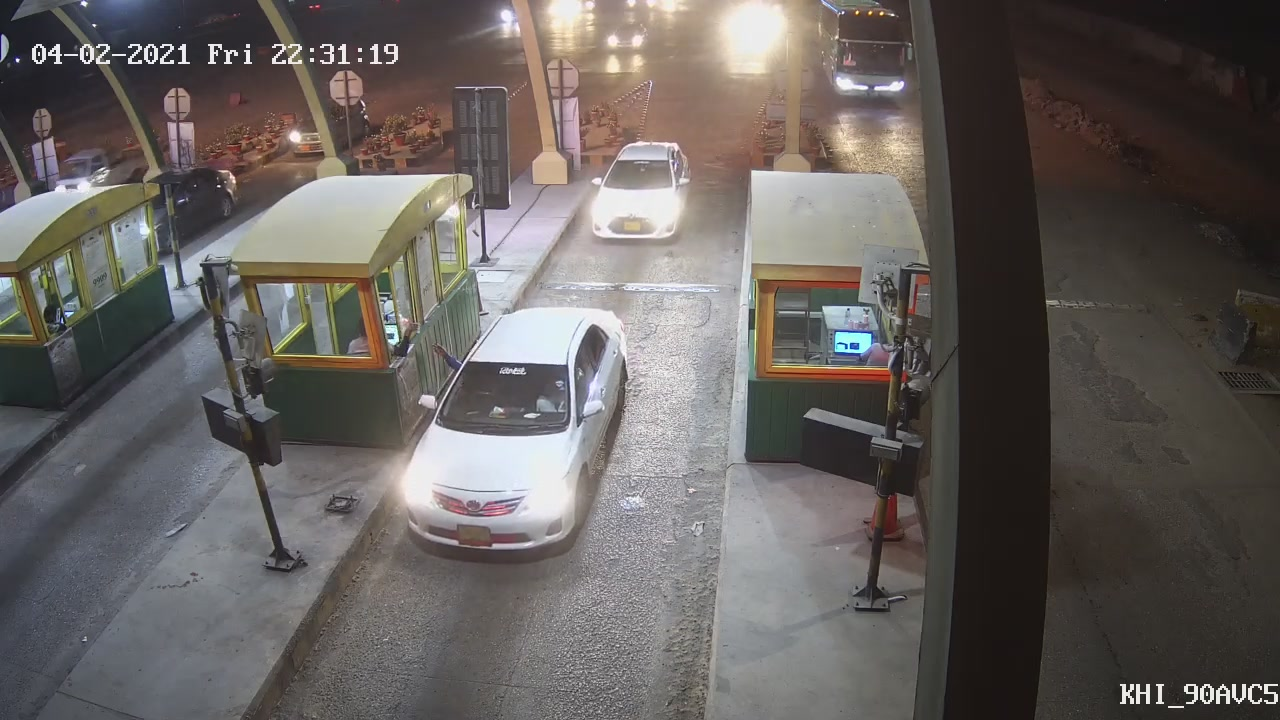F1: (399, 301, 631, 554), (585, 139, 701, 252)
